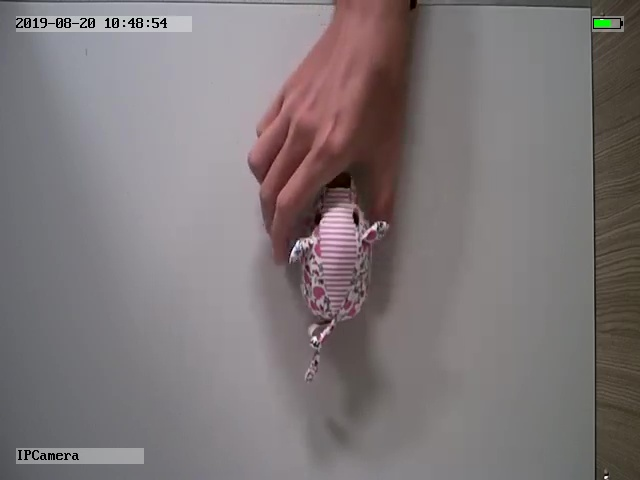pig: (289, 169, 390, 386)
